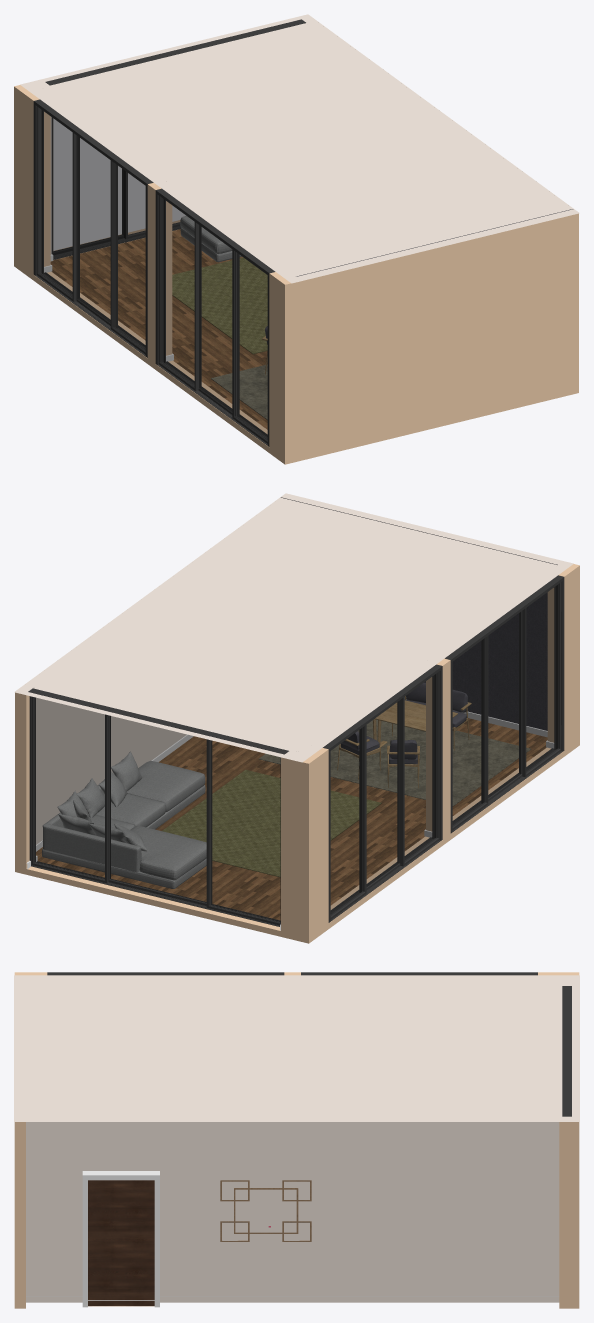
Rendered from RoomCompressed.gltf.
3 renders of one model, top to bottom at view 1: azimuth 30°, elevation 25°; view 2: azimuth 150°, elevation 25°; view 3: azimuth 270°, elevation 25°, orthographic. The views are drawn at different scales.
Visible parts, largest first — view 1: Ceiling_Exterior, Exterior_Exterior, Windows001, Windowsframes_Exterior, Floor_Exterior, Carpet_Interior, Carpet_Interior.001, Sofa_Interior; view 2: Ceiling_Exterior, Windows001, Exterior_Exterior, Windowsframes_Exterior, Floor_Exterior, Sofa_Interior, Room_Exterior, Carpet_Interior, Wall_Exterior, Carpet_Interior.001, Chairlegs_Interior, Chairpillows_Interior (+1 smaller); view 3: Room_Exterior, Ceiling_Exterior, Door_Exterior, Exterior_Exterior, Windowsframes_Exterior, Shelf_Interior, Bebel_Exterior.
Boxes of the visible parts, box(x1,y1,x2,y2) form: Ceiling_Exterior: box(20, 14, 579, 283); Exterior_Exterior: box(14, 85, 578, 464); Windows001: box(41, 110, 267, 438); Windowsframes_Exterior: box(33, 19, 305, 446); Floor_Exterior: box(50, 229, 267, 429); Carpet_Interior: box(172, 257, 267, 354); Carpet_Interior.001: box(211, 364, 267, 419); Sofa_Interior: box(180, 215, 241, 262); Ceiling_Exterior: box(14, 493, 573, 762); Windows001: box(36, 585, 557, 921); Exterior_Exterior: box(15, 564, 579, 943); Windowsframes_Exterior: box(28, 575, 564, 926); Floor_Exterior: box(36, 718, 547, 920); Sofa_Interior: box(42, 751, 206, 888); Room_Exterior: box(36, 697, 186, 844); Carpet_Interior: box(162, 769, 381, 877); Wall_Exterior: box(281, 497, 557, 730); Carpet_Interior.001: box(259, 719, 530, 806); Chairlegs_Interior: box(337, 696, 471, 788); Chairpillows_Interior: box(340, 682, 467, 764); Room_Exterior: box(26, 1122, 559, 1302); Ceiling_Exterior: box(14, 975, 579, 1121); Door_Exterior: box(82, 1171, 159, 1307); Exterior_Exterior: box(14, 972, 579, 1308); Windowsframes_Exterior: box(47, 972, 571, 1116); Shelf_Interior: box(220, 1180, 311, 1241); Bebel_Exterior: box(26, 1296, 558, 1300).
Bounding box in the file's own units: 5.46 × 3.11 × 8.49.
19 materials, 9 textured.
